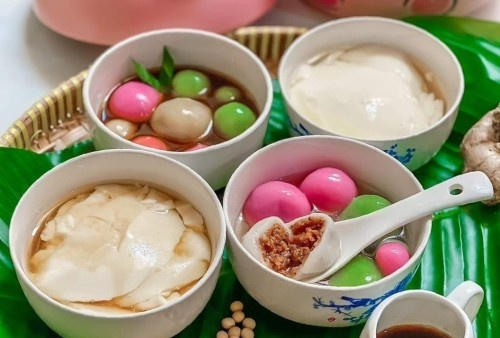ronde: (237, 166, 425, 288), (95, 67, 260, 152)
